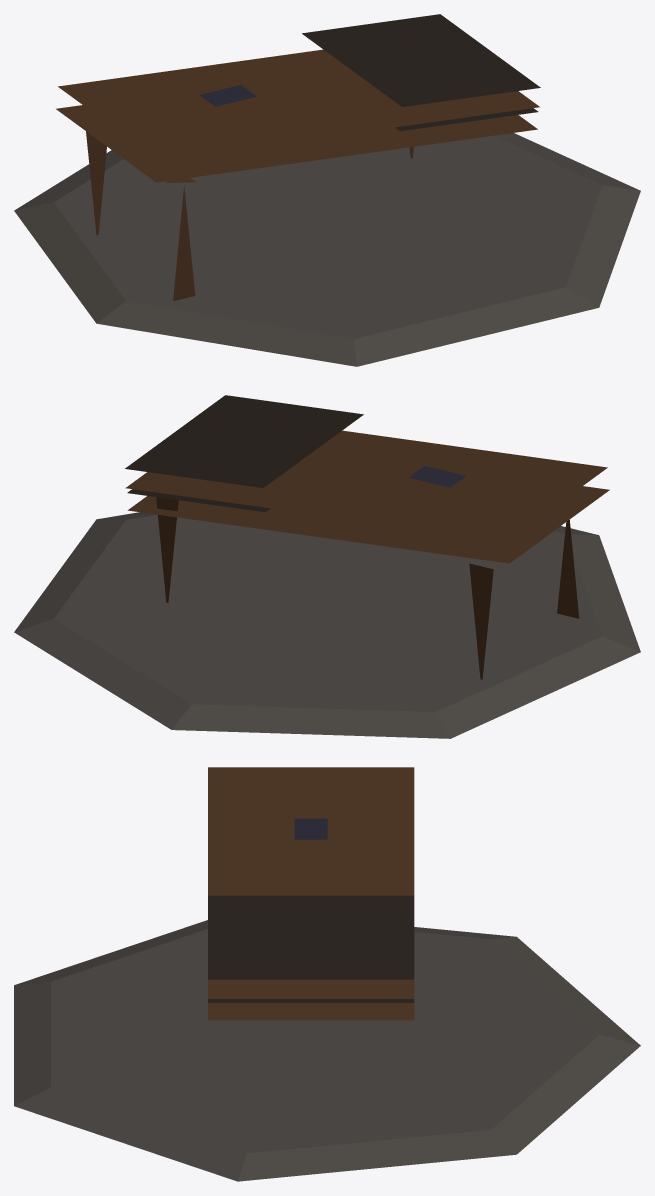
File: prop_burnt_desk_lod1.glb
The picture shows the model from 3 angles, top to bottom: view 1: azimuth 30°, elevation 25°; view 2: azimuth 150°, elevation 25°; view 3: azimuth 270°, elevation 25°; orthographic projection. The views are drawn at different scales.
Visible parts, largest first — view 1: prop_burnt_desk_lod1; view 2: prop_burnt_desk_lod1; view 3: prop_burnt_desk_lod1.
Part boxes in pixels (left/top/right/bottom): prop_burnt_desk_lod1: left=14, top=14, right=640, bottom=366; prop_burnt_desk_lod1: left=14, top=395, right=640, bottom=738; prop_burnt_desk_lod1: left=14, top=767, right=640, bottom=1181.
Bounding box in the file's own units: 1.56 × 0.4448 × 1.52.
